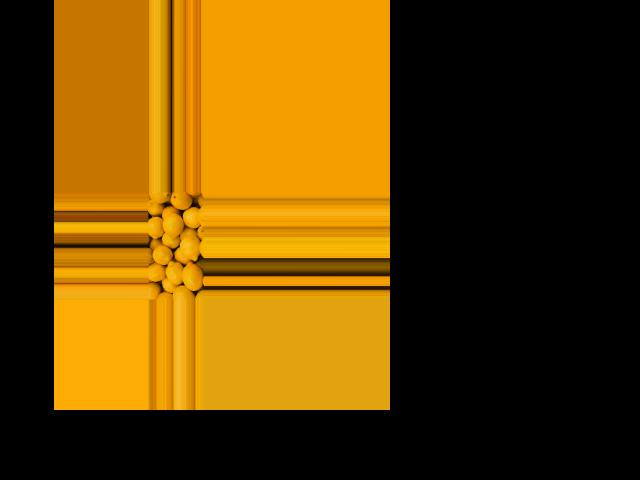lemon: (151, 245, 175, 263)
